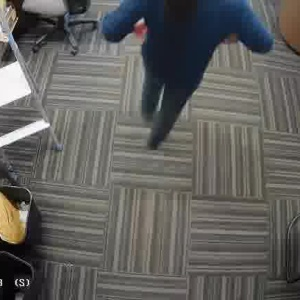person: (131, 0, 249, 141)
